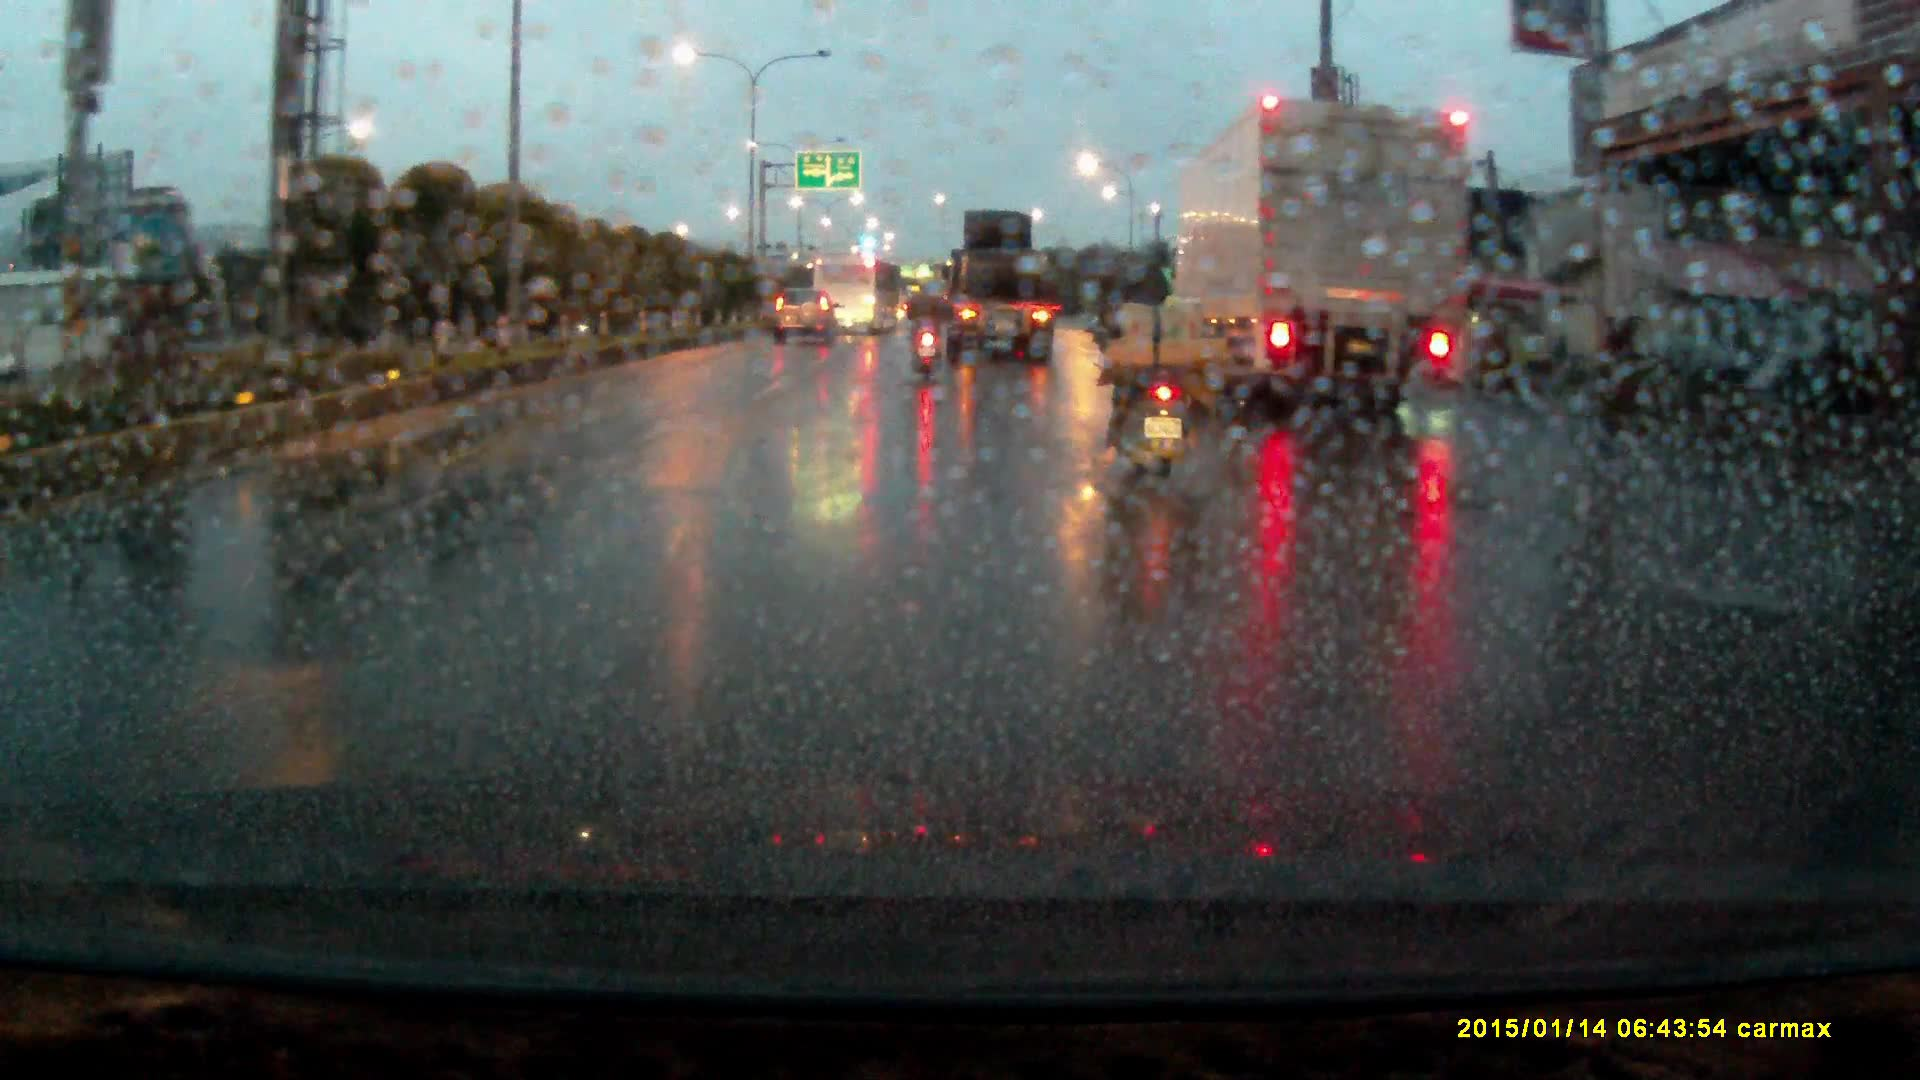rider: (1095, 253, 1216, 505), (908, 276, 948, 383)
vehicle: (1162, 91, 1477, 422), (938, 208, 1058, 365), (811, 255, 880, 336), (770, 292, 840, 354)
